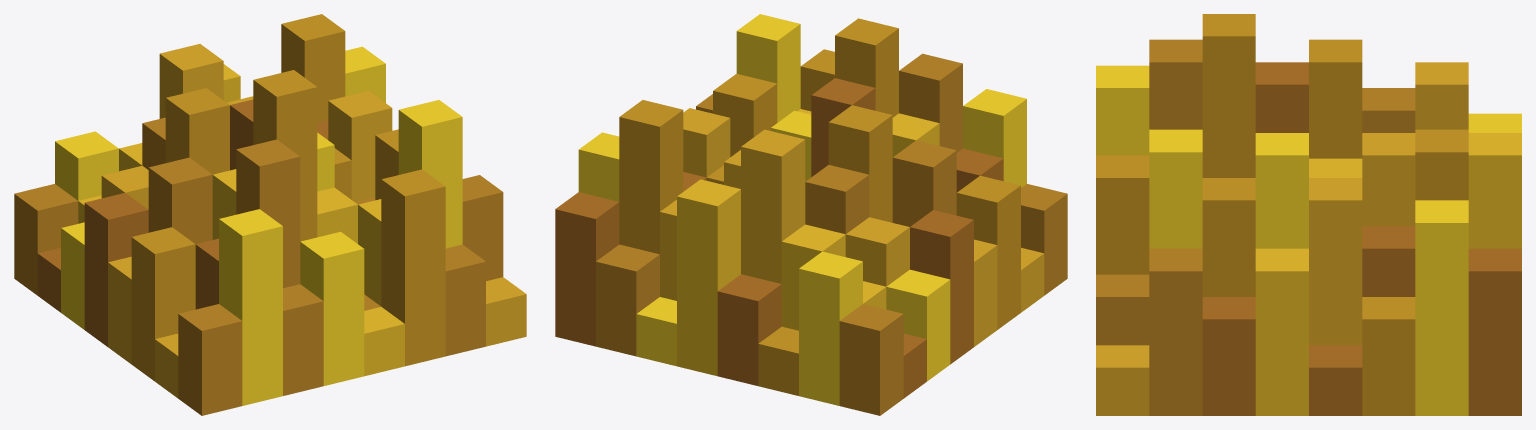
File: granjafinal_trigo.obj
3 views of the same model, side by side, from view 1: azimuth 30°, elevation 25°; view 2: azimuth 150°, elevation 25°; view 3: azimuth 270°, elevation 25° (orthographic). The views are drawn at different scales.
Bounding box in the file's own units: 0.8 × 0.6 × 0.8.
Materials: 1 (1 with a texture image).
